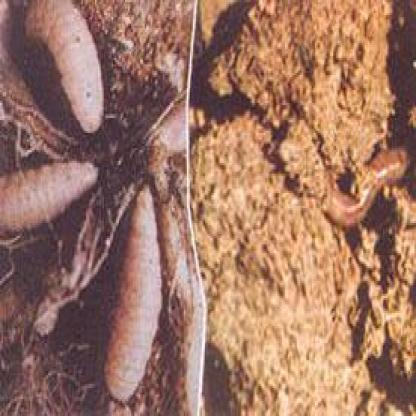whorl-maggot: (102, 184, 168, 404), (22, 1, 108, 133), (1, 164, 100, 236)
